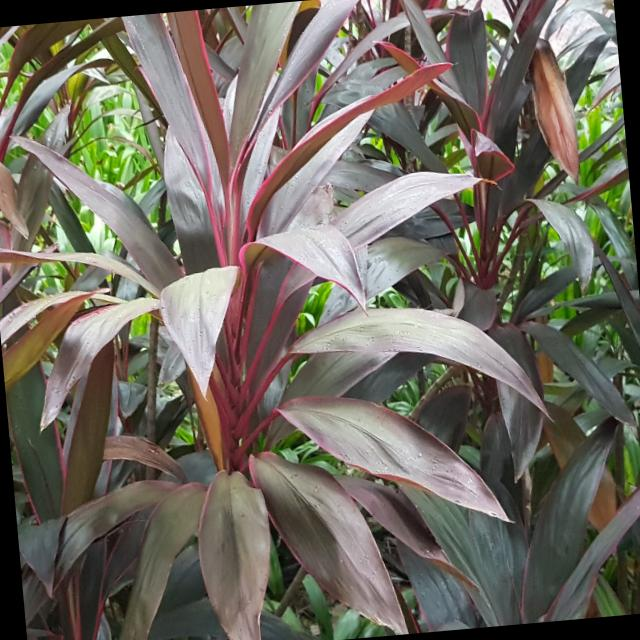Ti: (0, 0, 489, 640)
